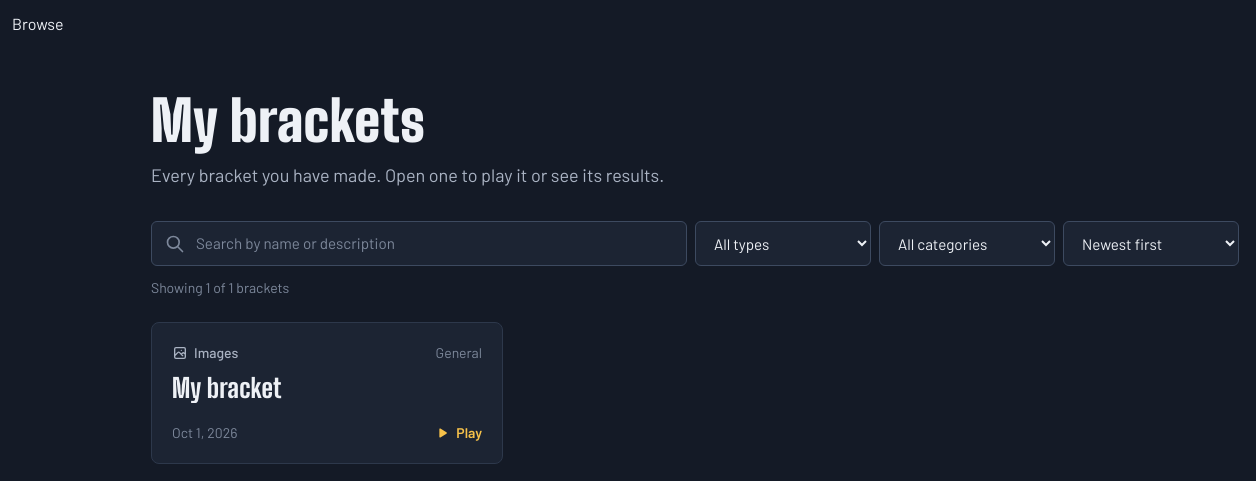
Test: BrowsePage › resets "My brackets" when the navbar Browse link (/browse) is followed
The image size is (1256, 481).
Check: the heading "My brackets" is shown, box [151,87,425,154]
Check: the heading "My bracket" is shown, box [172,372,282,404]
Click the link "Browse": (38,24) [12,14,64,33]
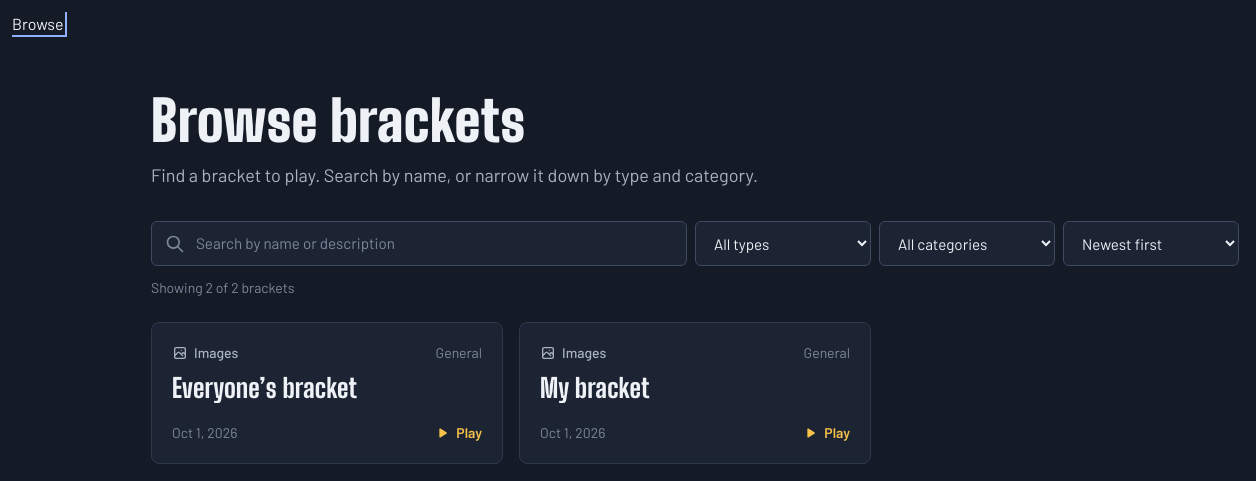
Check: the heading "Browse brackets" is shown, box [151,87,525,154]
Check: the heading "Everyone’s bracket" is shown, box [172,372,357,404]
